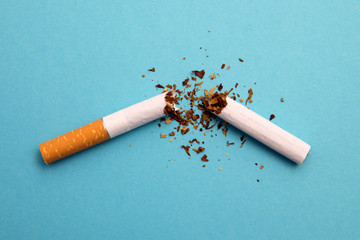cigarette: (37, 87, 179, 167), (200, 89, 312, 167)
